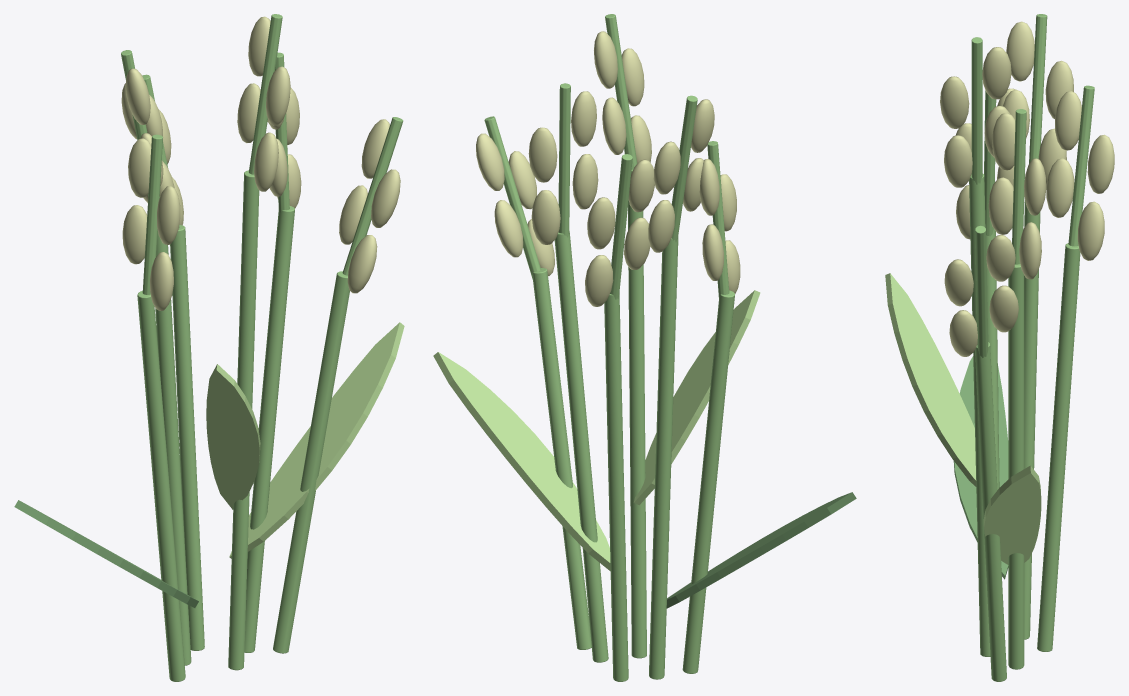
The model's file is WF_Quaternius_Rice_RoundPass01.fbx.
The picture shows the model from 3 angles, left to right: view 1: azimuth 30°, elevation 25°; view 2: azimuth 150°, elevation 25°; view 3: azimuth 270°, elevation 25°; orthographic projection. The views are drawn at different scales.
Visible parts, largest first — view 1: WF_RoundPass01_Rice_Leaf_1, WF_RoundPass01_Rice_Stem_3, WF_RoundPass01_Rice_Stem_5, WF_RoundPass01_Rice_Stem_2, WF_RoundPass01_Rice_Stem_0, WF_RoundPass01_Rice_Stem_4, WF_RoundPass01_Rice_Leaf_2, WF_RoundPass01_Rice_Stem_1, WF_RoundPass01_Rice_Leaf_0, WF_RoundPass01_Rice_Panicle_0_axis, WF_RoundPass01_Rice_Panicle_4_axis, WF_RoundPass01_Rice_Panicle_2_axis (+17 smaller); view 2: WF_RoundPass01_Rice_Leaf_1, WF_RoundPass01_Rice_Stem_1, WF_RoundPass01_Rice_Stem_3, WF_RoundPass01_Rice_Stem_2, WF_RoundPass01_Rice_Stem_5, WF_RoundPass01_Rice_Stem_0, WF_RoundPass01_Rice_Stem_4, WF_RoundPass01_Rice_Leaf_2, WF_RoundPass01_Rice_Leaf_0, WF_RoundPass01_Rice_Panicle_3_axis, WF_RoundPass01_Rice_Panicle_4_axis, WF_RoundPass01_Rice_Panicle_5_axis (+25 smaller); view 3: WF_RoundPass01_Rice_Leaf_2, WF_RoundPass01_Rice_Stem_5, WF_RoundPass01_Rice_Stem_3, WF_RoundPass01_Rice_Stem_4, WF_RoundPass01_Rice_Leaf_1, WF_RoundPass01_Rice_Stem_1, WF_RoundPass01_Rice_Stem_2, WF_RoundPass01_Rice_Leaf_0, WF_RoundPass01_Rice_Panicle_5_axis, WF_RoundPass01_Rice_Panicle_2_axis, WF_RoundPass01_Rice_Panicle_1_axis, WF_RoundPass01_Rice_Panicle_3_axis (+24 smaller).
Boxes of the visible parts, <box> form: WF_RoundPass01_Rice_Leaf_1: <box>229,322,404,558</box>; WF_RoundPass01_Rice_Stem_3: <box>244,206,294,652</box>; WF_RoundPass01_Rice_Stem_5: <box>170,224,204,650</box>; WF_RoundPass01_Rice_Stem_2: <box>228,170,259,670</box>; WF_RoundPass01_Rice_Stem_0: <box>137,291,185,681</box>; WF_RoundPass01_Rice_Stem_4: <box>273,271,349,653</box>; WF_RoundPass01_Rice_Leaf_2: <box>206,364,260,509</box>; WF_RoundPass01_Rice_Stem_1: <box>155,231,191,665</box>; WF_RoundPass01_Rice_Leaf_0: <box>14,500,198,607</box>; WF_RoundPass01_Rice_Panicle_0_axis: <box>142,134,162,294</box>; WF_RoundPass01_Rice_Panicle_4_axis: <box>342,117,403,275</box>; WF_RoundPass01_Rice_Panicle_2_axis: <box>249,14,282,174</box>; WF_RoundPass01_Rice_Leaf_1: <box>433,352,610,571</box>; WF_RoundPass01_Rice_Stem_1: <box>649,237,678,679</box>; WF_RoundPass01_Rice_Stem_3: <box>554,231,608,662</box>; WF_RoundPass01_Rice_Stem_2: <box>628,169,646,658</box>; WF_RoundPass01_Rice_Stem_5: <box>604,292,628,681</box>; WF_RoundPass01_Rice_Stem_0: <box>682,290,734,673</box>; WF_RoundPass01_Rice_Stem_4: <box>532,268,591,649</box>; WF_RoundPass01_Rice_Leaf_2: <box>633,290,760,505</box>; WF_RoundPass01_Rice_Leaf_0: <box>666,492,856,608</box>; WF_RoundPass01_Rice_Panicle_3_axis: <box>558,83,570,237</box>; WF_RoundPass01_Rice_Panicle_4_axis: <box>484,116,540,279</box>; WF_RoundPass01_Rice_Panicle_5_axis: <box>610,154,632,299</box>; WF_RoundPass01_Rice_Leaf_2: <box>885,273,976,486</box>; WF_RoundPass01_Rice_Stem_5: <box>1037,243,1080,651</box>; WF_RoundPass01_Rice_Stem_3: <box>1008,264,1024,669</box>; WF_RoundPass01_Rice_Stem_4: <box>975,342,1006,681</box>; WF_RoundPass01_Rice_Leaf_1: <box>983,465,1041,564</box>; WF_RoundPass01_Rice_Stem_1: <box>1024,200,1040,639</box>; WF_RoundPass01_Rice_Stem_2: <box>969,173,990,656</box>; WF_RoundPass01_Rice_Leaf_0: <box>953,356,1008,579</box>; WF_RoundPass01_Rice_Panicle_5_axis: <box>1068,85,1094,246</box>; WF_RoundPass01_Rice_Panicle_2_axis: <box>971,37,982,184</box>; WF_RoundPass01_Rice_Panicle_1_axis: <box>1029,14,1047,163</box>; WF_RoundPass01_Rice_Panicle_3_axis: <box>1012,109,1026,264</box>.
Size of the model in its own units: 82.03 by 40.42 by 123.
